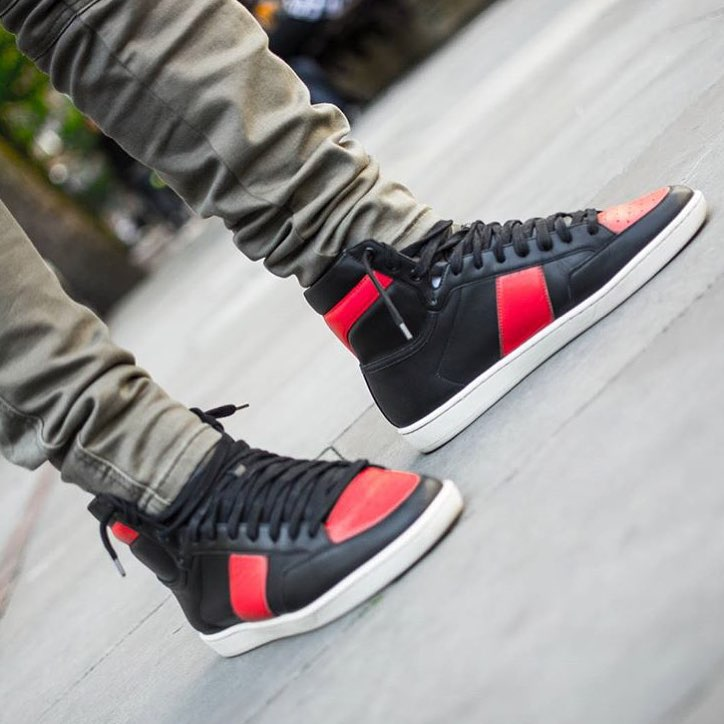sneaker: (249, 167, 724, 470), (52, 382, 488, 675)
